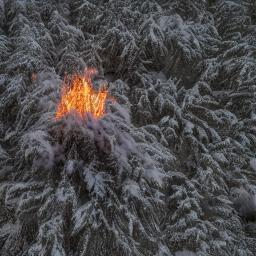Small fire: (64, 80, 102, 114)
